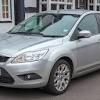Ford: (1, 10, 100, 93)
